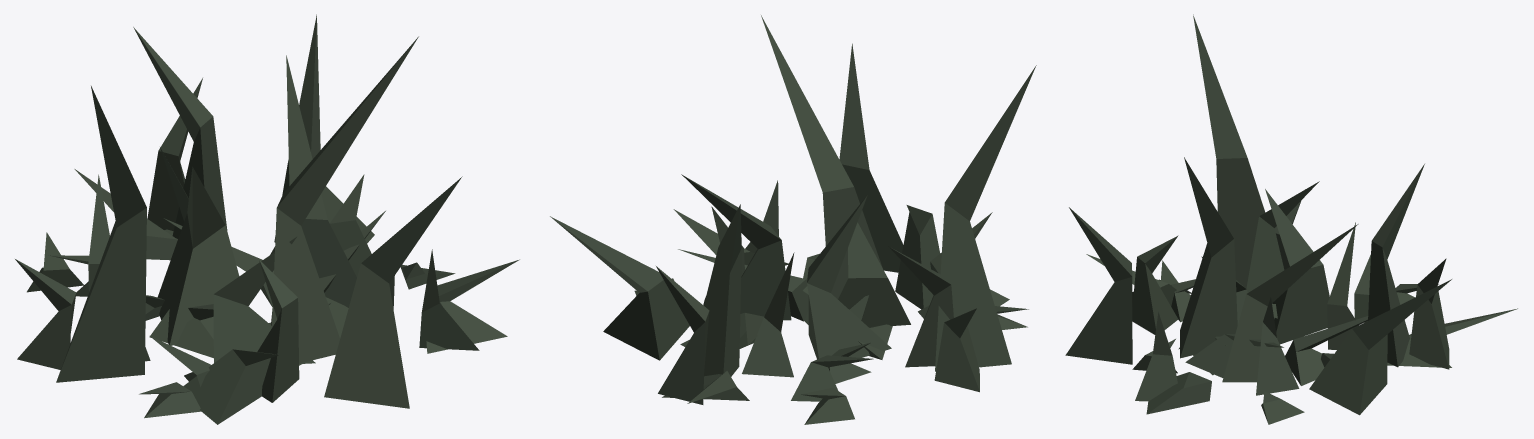
File: Grass_Clump.fbx
The picture shows the model from 3 angles, left to right: view 1: azimuth 30°, elevation 25°; view 2: azimuth 150°, elevation 25°; view 3: azimuth 270°, elevation 25°; orthographic projection. The views are drawn at different scales.
Visible parts, largest first — view 1: grass clump; view 2: grass clump; view 3: grass clump.
Part boxes in pixels (x1=…): grass clump: x1=15, y1=14, x2=519, y2=424; grass clump: x1=550, y1=15, x2=1036, y2=424; grass clump: x1=1065, y1=14, x2=1517, y2=424.
Size of the model in its own units: 373 by 271 by 440.
